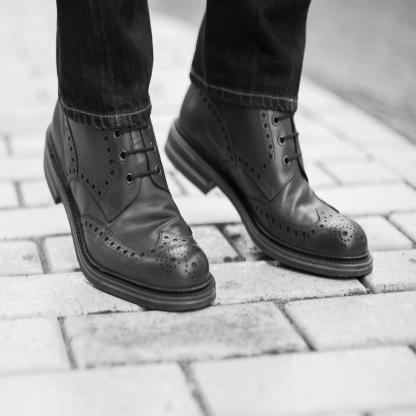ankle: (75, 128, 82, 136), (224, 104, 229, 110)
heel: (46, 153, 51, 159), (221, 163, 225, 168)
left_foot: (218, 99, 374, 278)
pinky: (355, 226, 361, 235), (155, 266, 161, 274)
right_foot: (45, 98, 217, 312)
toe: (338, 241, 344, 250), (201, 259, 207, 266)
